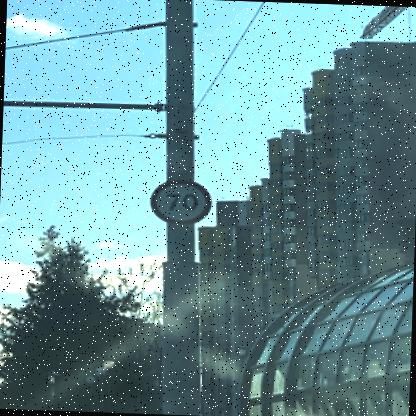speedlimit: (146, 178, 210, 226)
